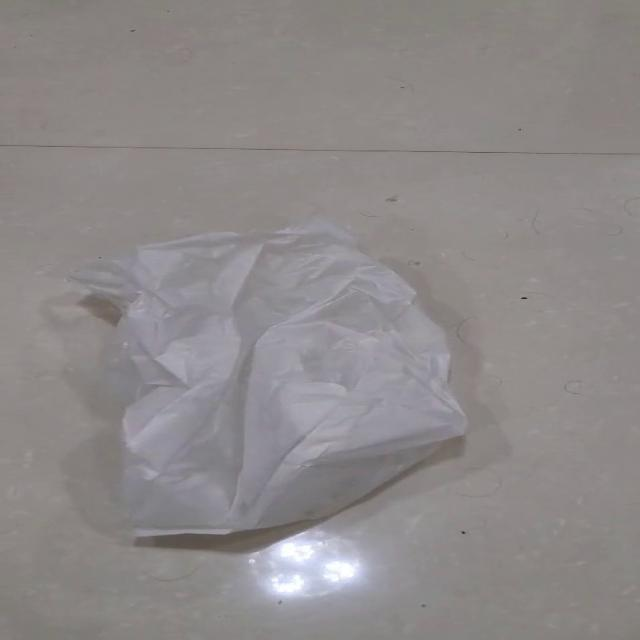plastic: (61, 216, 468, 538)
